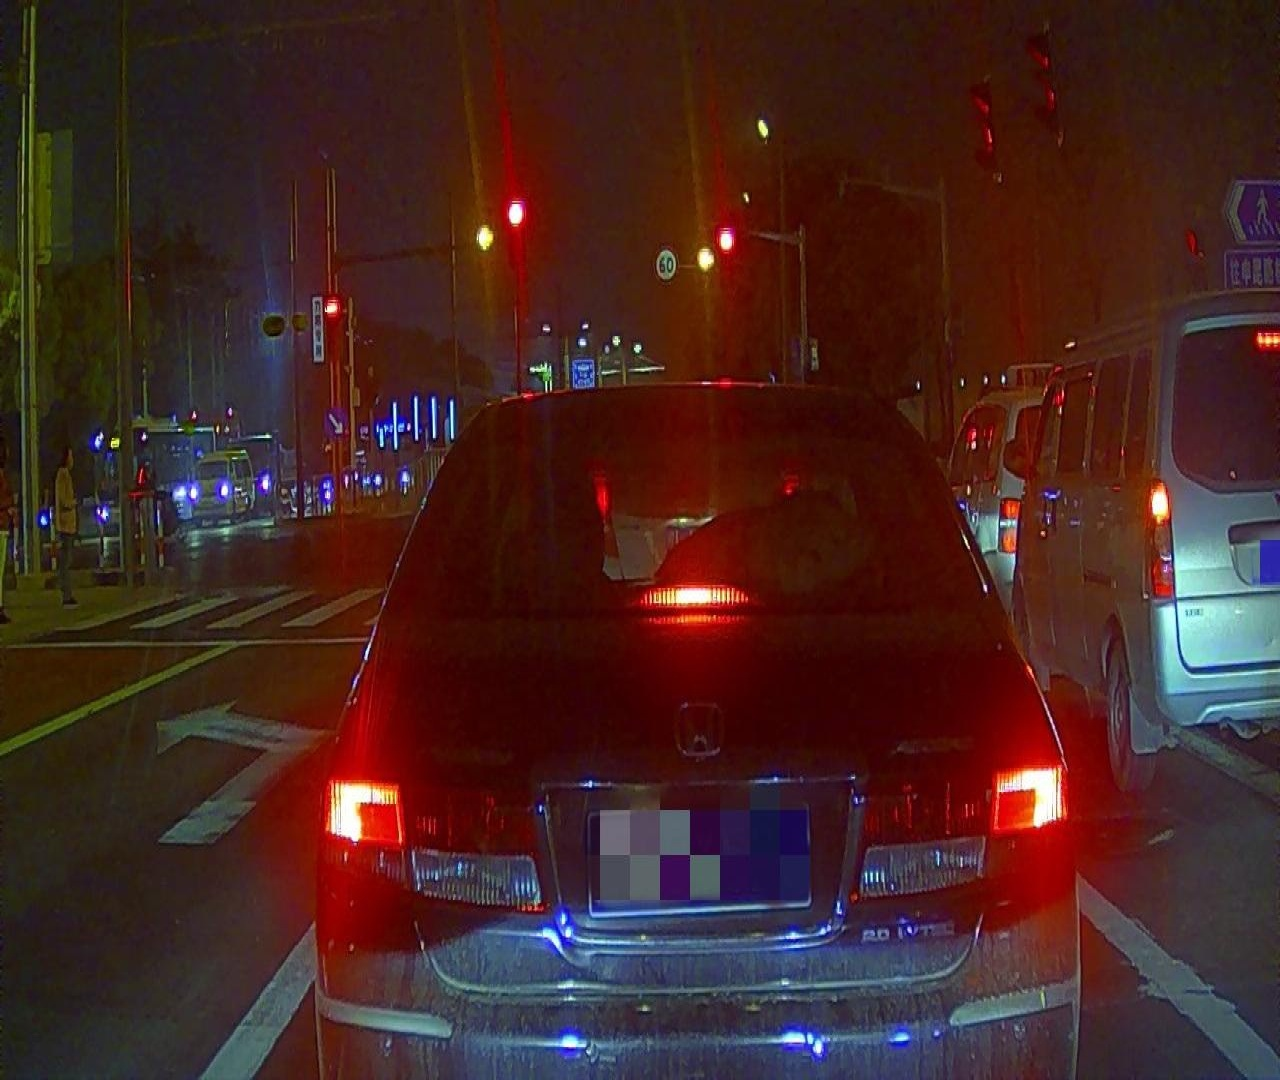red: (510, 202, 524, 222), (719, 234, 732, 249)
yellow: (701, 246, 713, 270), (477, 228, 493, 246)
